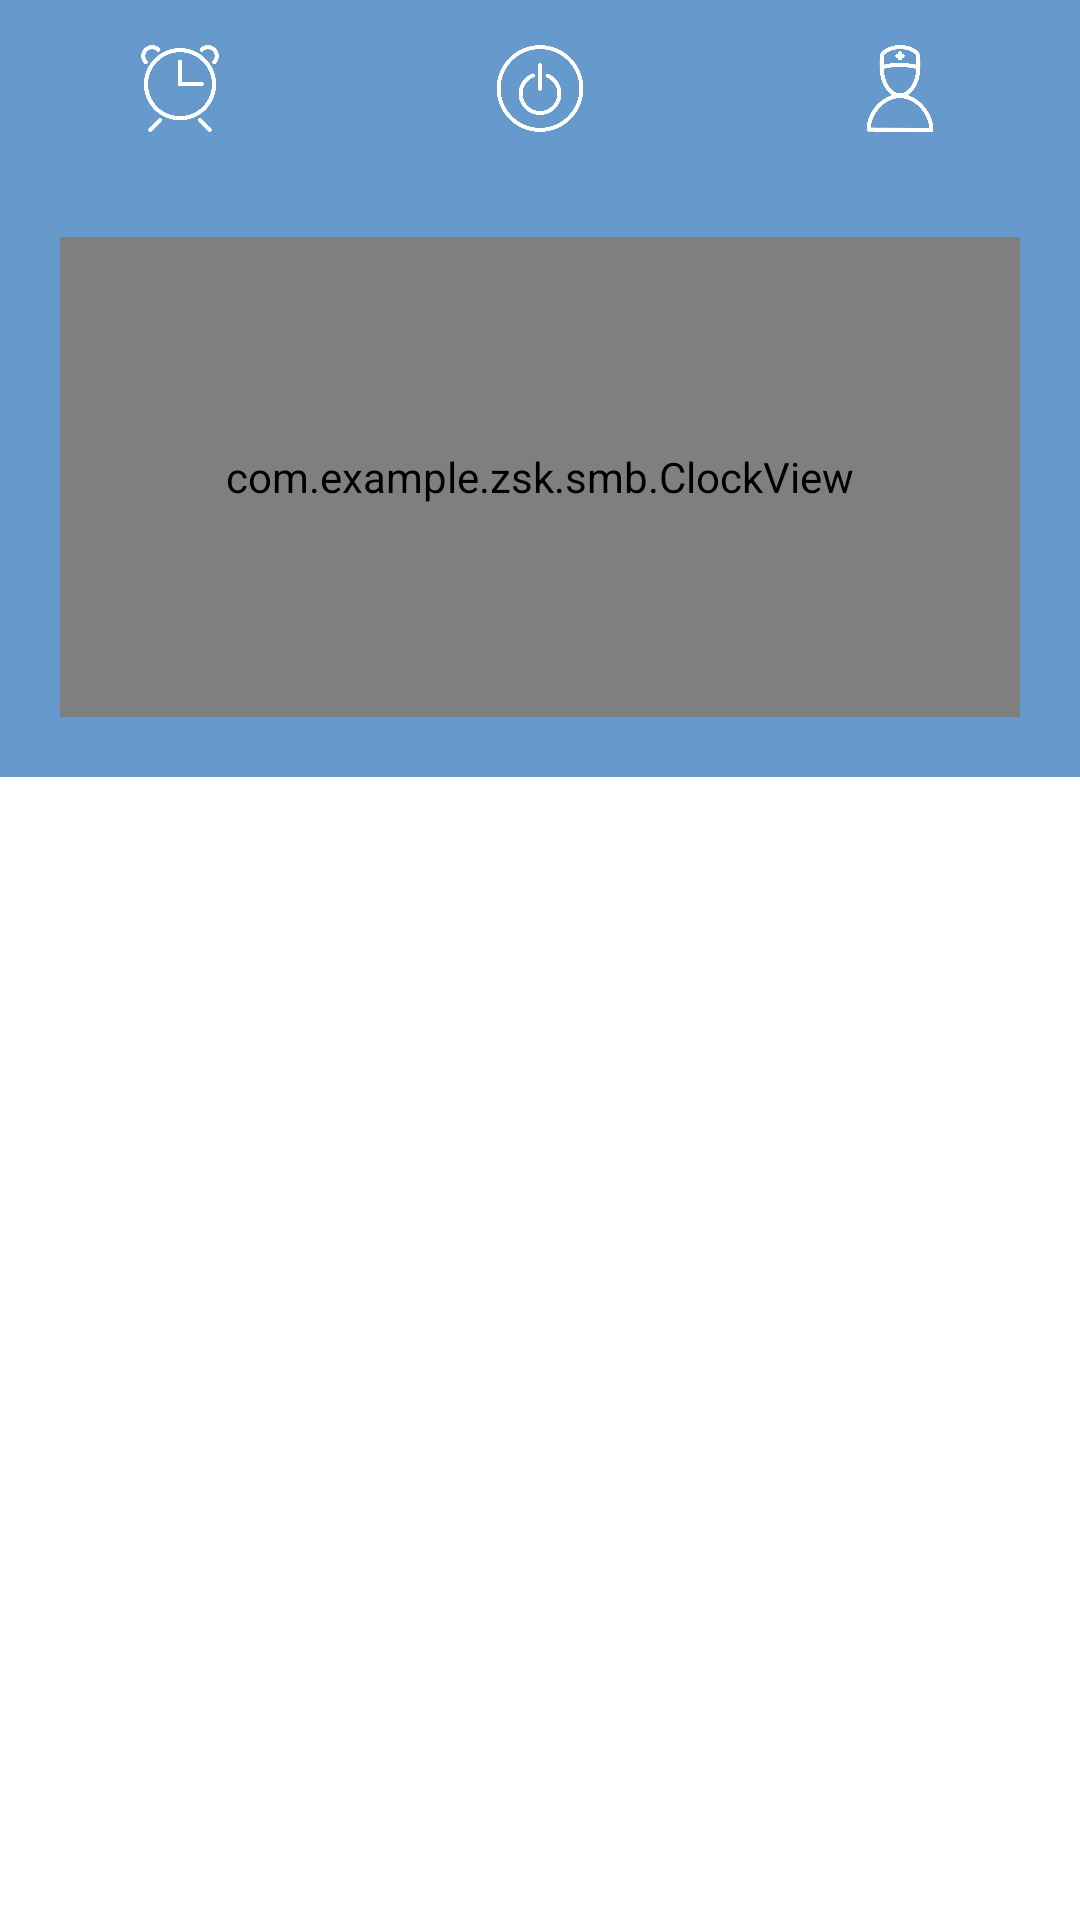

Named icons in this screenshot (1080px x 1920px) and their bounding boxes, [x1=x1, y1=y1, x2=x2, y2=y2]:
alarm: [x1=141, y1=45, x2=219, y2=132]
doctor: [x1=867, y1=45, x2=933, y2=132]
switch: [x1=497, y1=45, x2=583, y2=132]
